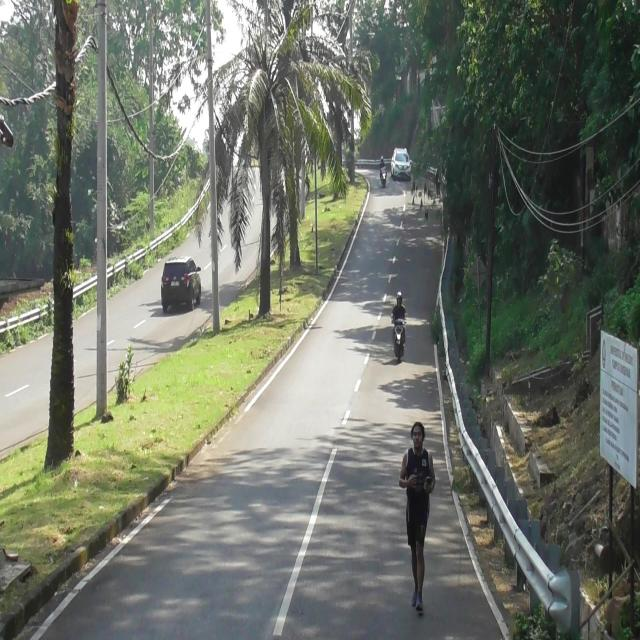motorcycle: (394, 319, 406, 361), (380, 165, 387, 188)
person: (392, 290, 406, 324), (379, 156, 386, 168)
rider_region: (392, 289, 409, 362), (378, 150, 388, 188)
